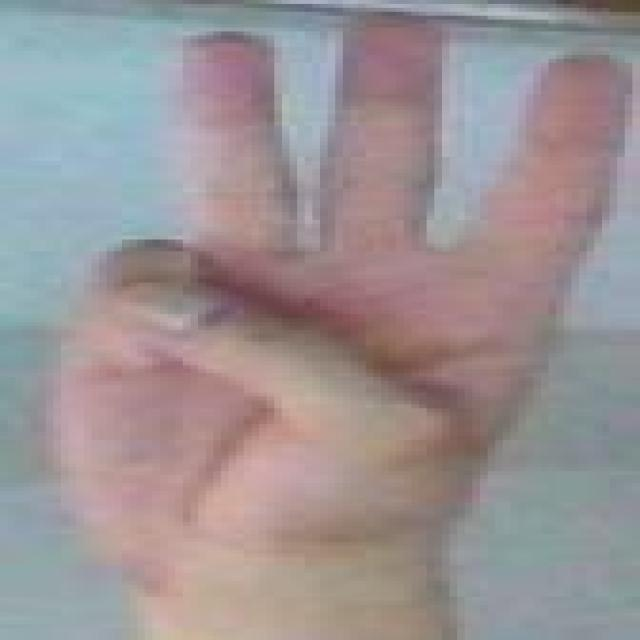W: (10, 2, 640, 624)
